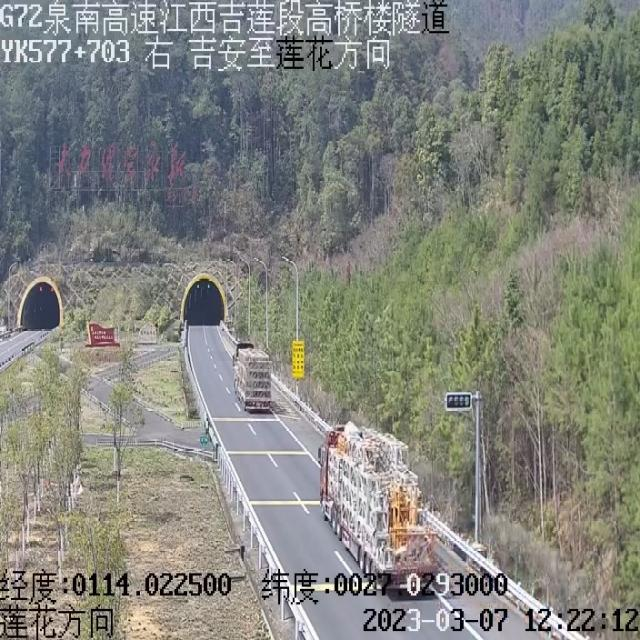point: (158, 251, 249, 351)
